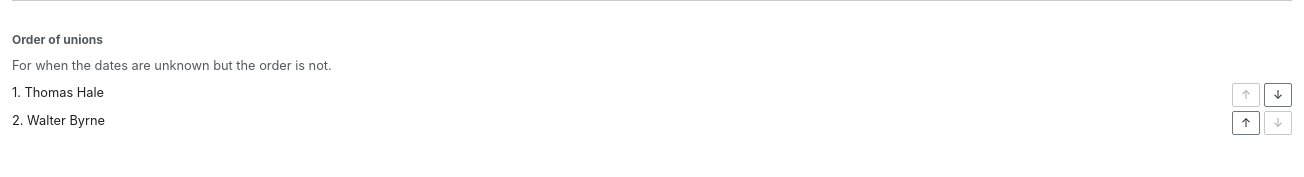
it: UnionOrder › reports a refusal without moving anything on screen
The width and height of the screenshot is (1304, 177).
Step 1. Click the button "↑" in the row of "Walter Byrne" → (1246, 123), box [1232,111,1260,135]
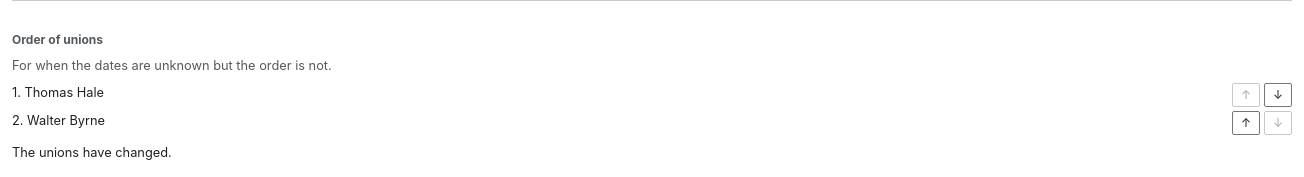
Check: the list item "1. Thomas Hale ↑ ↓" is shown, box [12,83,1292,107]
Check: the message "The unions have changed." is shown, box [12,145,172,160]
